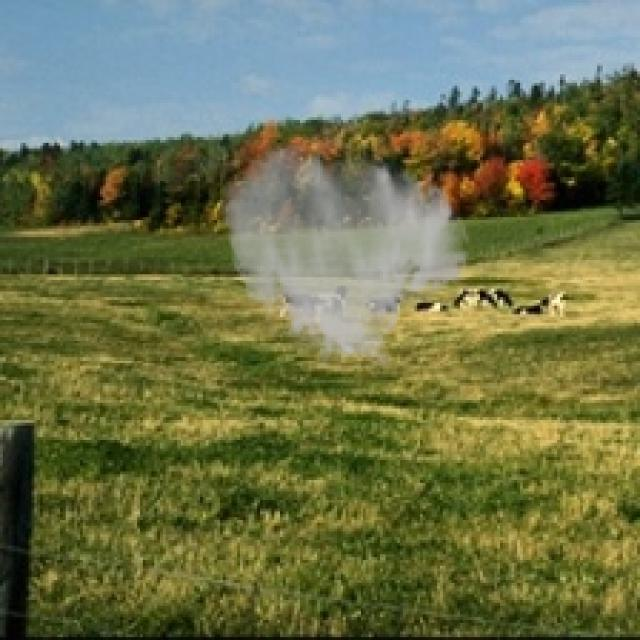smoke: (217, 143, 472, 371)
